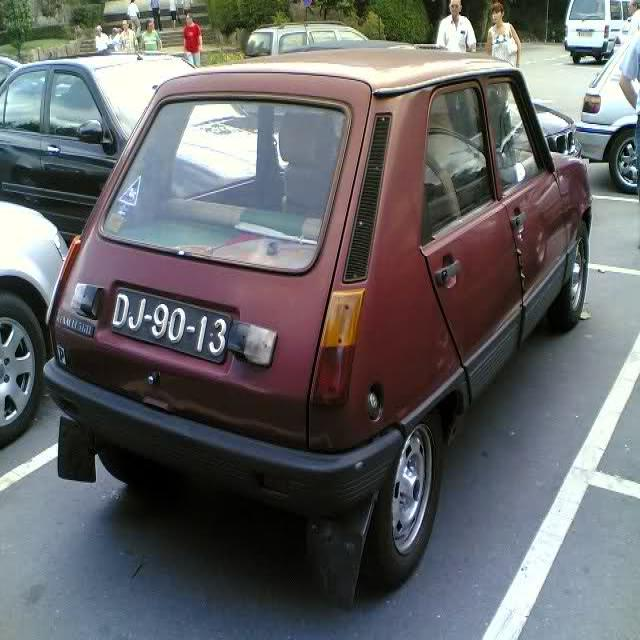portuguese-license-plates: (110, 284, 233, 369)
